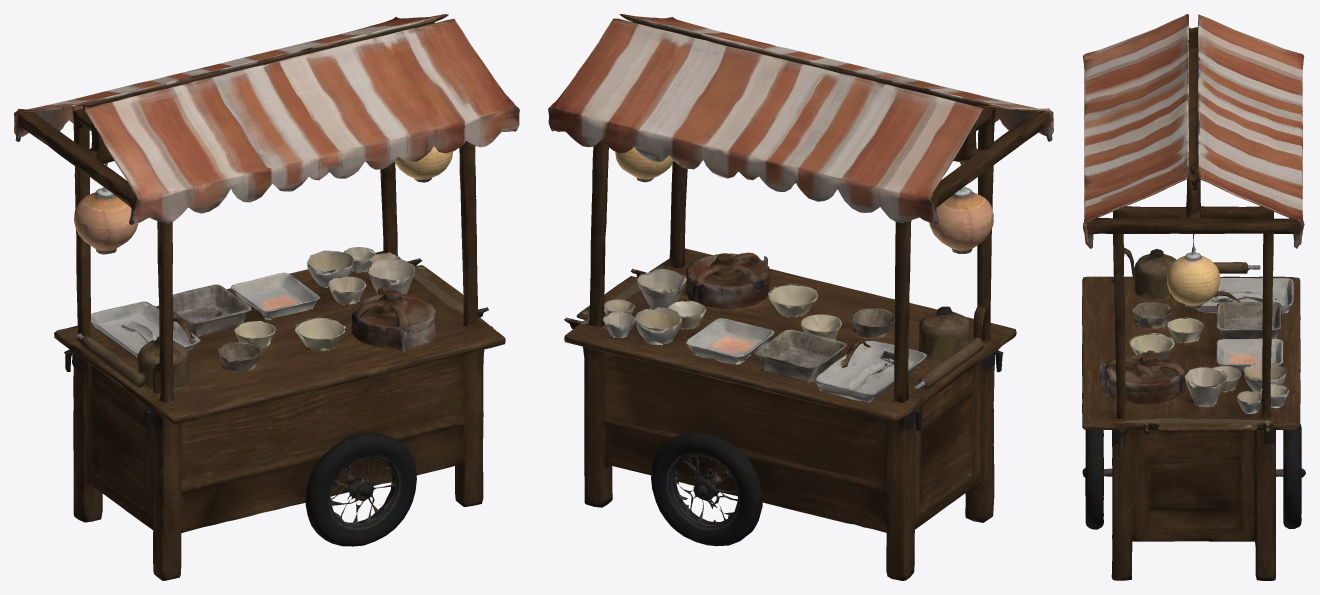
Rendered from prop-stall.glb.
The picture shows the model from 3 angles, left to right: view 1: azimuth 30°, elevation 25°; view 2: azimuth 150°, elevation 25°; view 3: azimuth 270°, elevation 25°; orthographic projection. The views are drawn at different scales.
Visible parts, largest first — view 1: Mesh_0; view 2: Mesh_0; view 3: Mesh_0.
Boxes of the visible parts, left/top/right/bottom form: Mesh_0: left=14, top=14, right=519, bottom=580; Mesh_0: left=548, top=14, right=1053, bottom=580; Mesh_0: left=1082, top=14, right=1305, bottom=580.
Size of the model in its own units: 0.9003 by 1 by 0.4944.
Materials: 1 (1 with a texture image).
